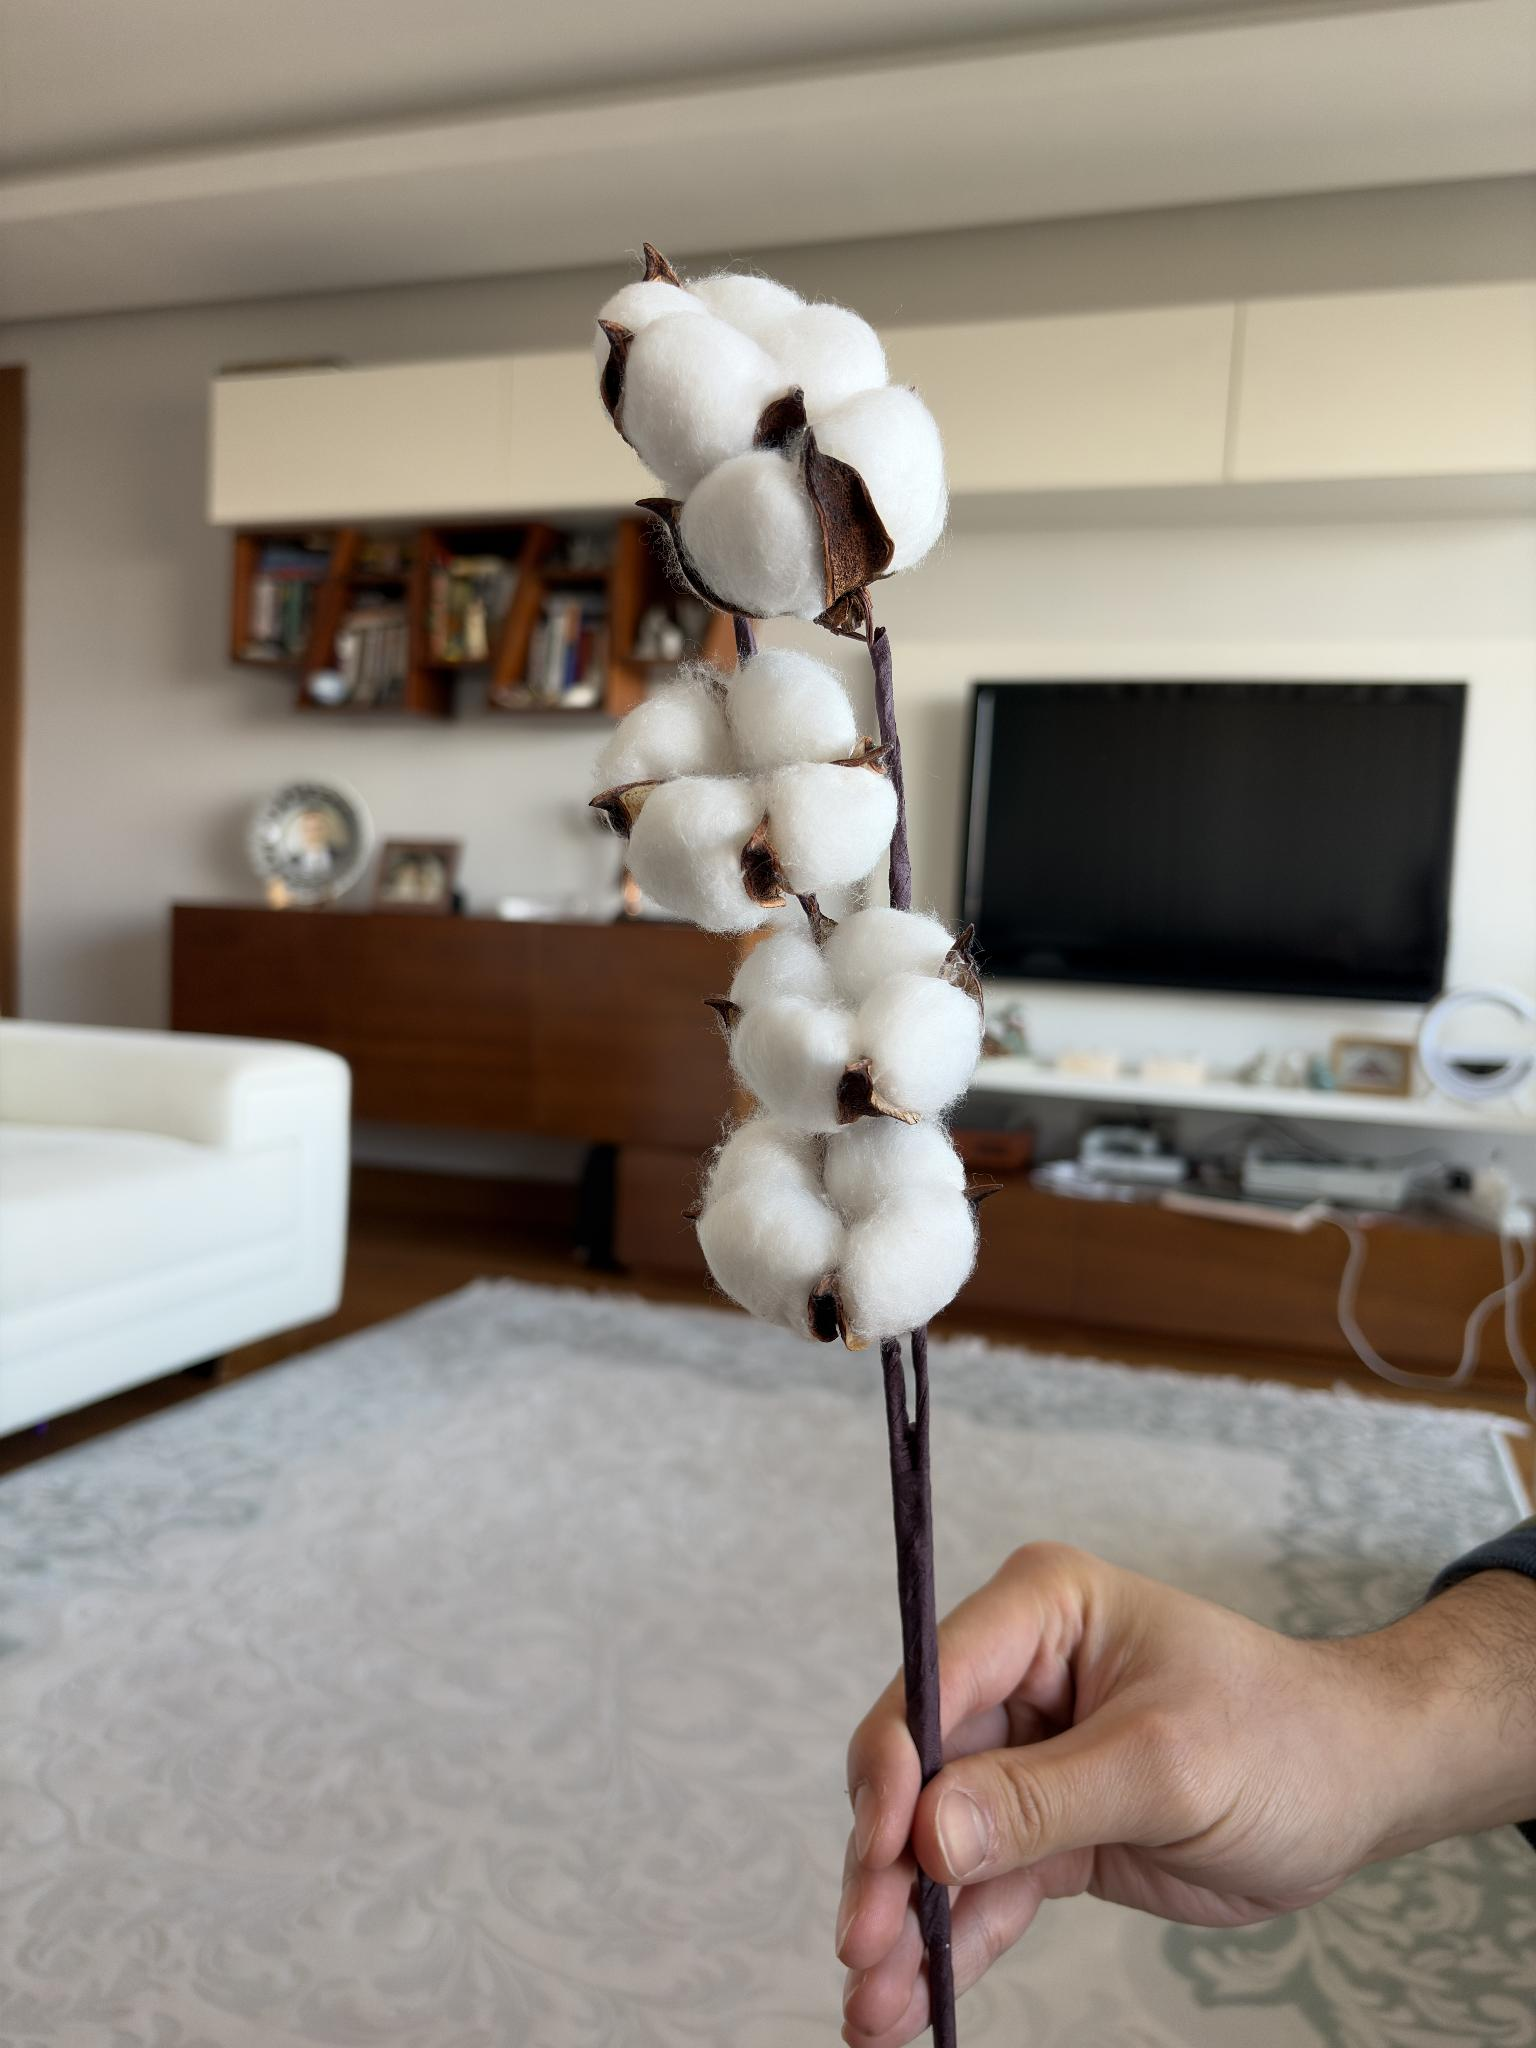cotton_boll: (620, 313, 789, 497), (813, 384, 947, 571), (679, 450, 826, 619), (697, 1182, 844, 1338), (837, 1180, 976, 1340), (629, 776, 766, 934), (855, 972, 981, 1118), (765, 763, 897, 897), (592, 669, 734, 790), (731, 995, 855, 1132), (726, 650, 858, 772), (765, 303, 887, 421), (824, 1118, 965, 1218), (824, 906, 952, 1003), (705, 1118, 821, 1213), (594, 277, 707, 374), (729, 921, 839, 1009), (686, 273, 802, 352)
cotton_boll-cluster: (591, 223, 962, 631), (578, 640, 905, 937), (692, 1114, 983, 1353), (712, 905, 995, 1137)
